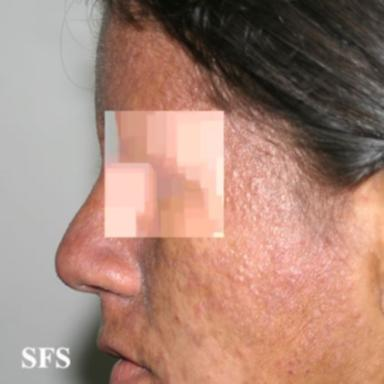Darier_s-Disease: (97, 14, 370, 381)
